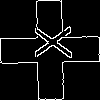X: (25, 25, 72, 60)
